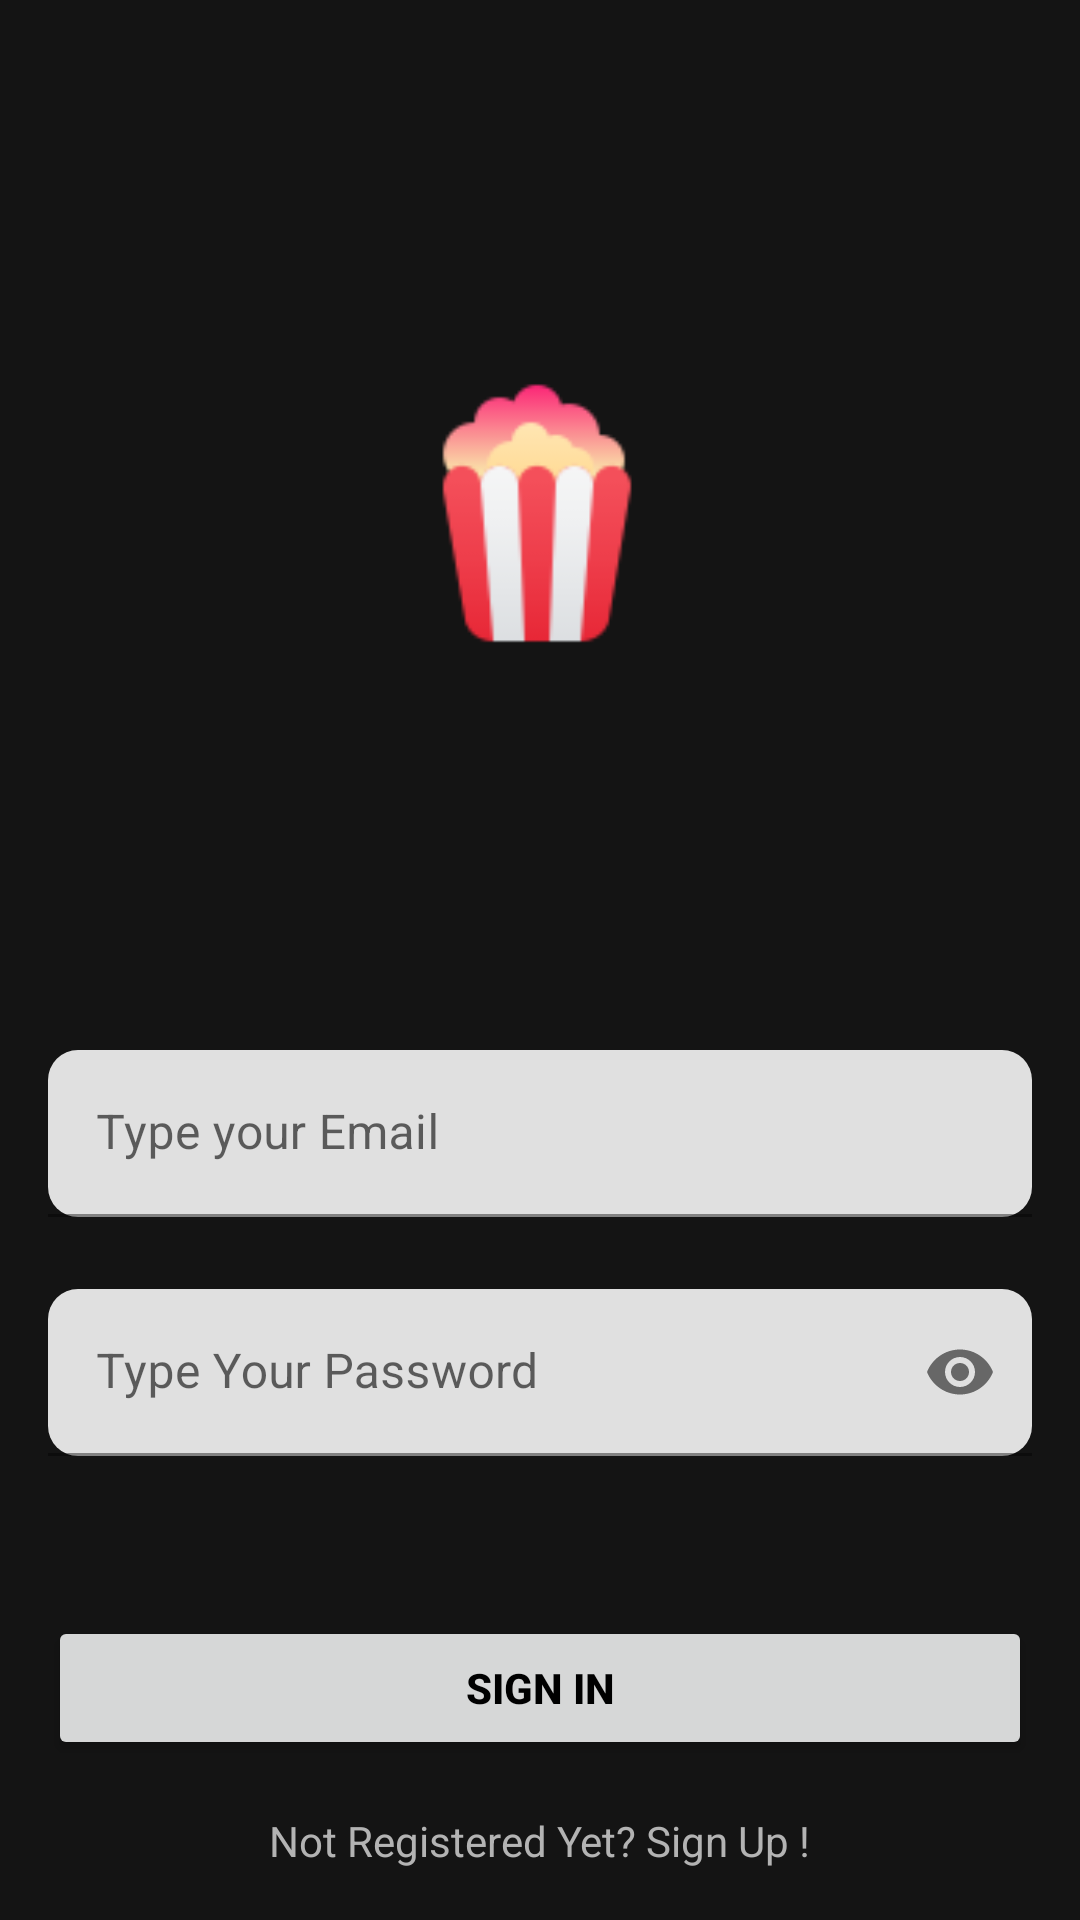

Named icons in this screenshot (1080*1920) and their centers, (x,y):
popconr: (537,513)
